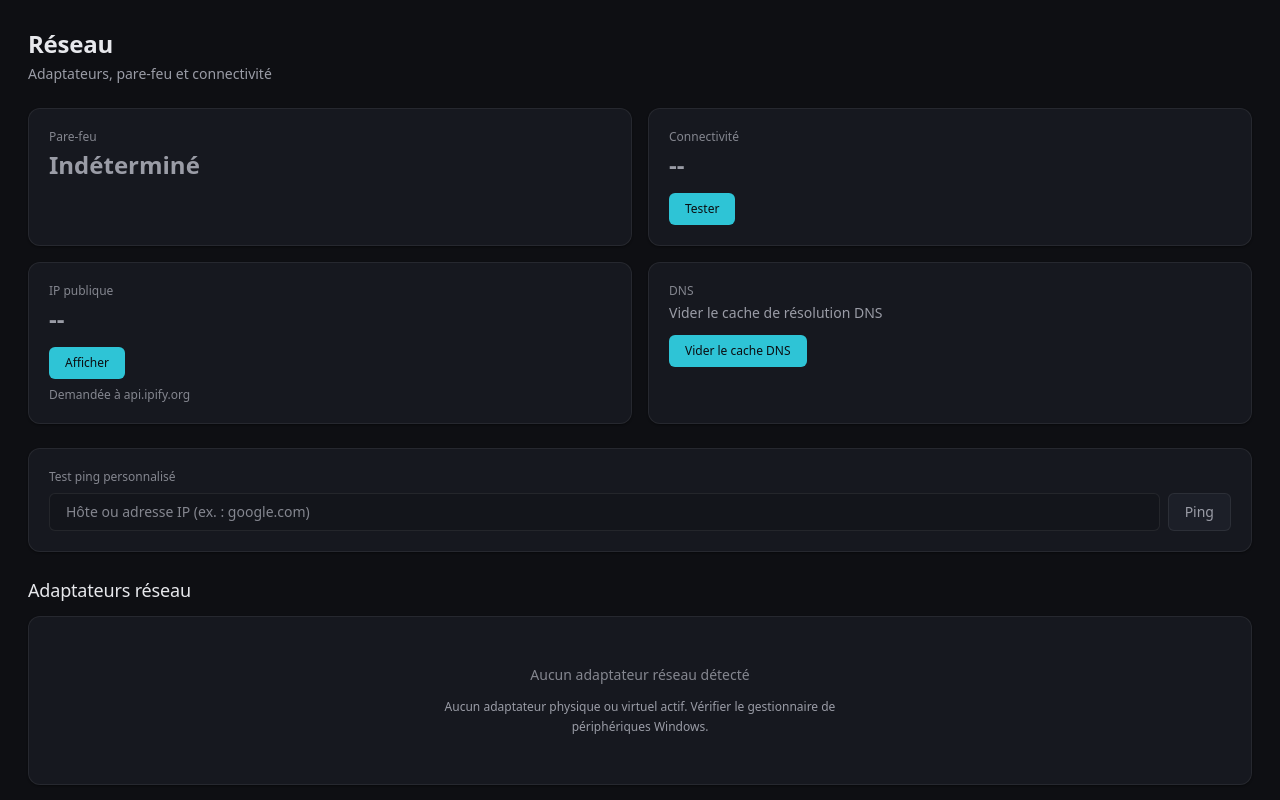
Test: NetworkPage IP publique › affiche l'adresse apres un clic sur Afficher
Click the button with aria-label "afficher l'ip publique" at (87, 363), box [49,347,125,379]
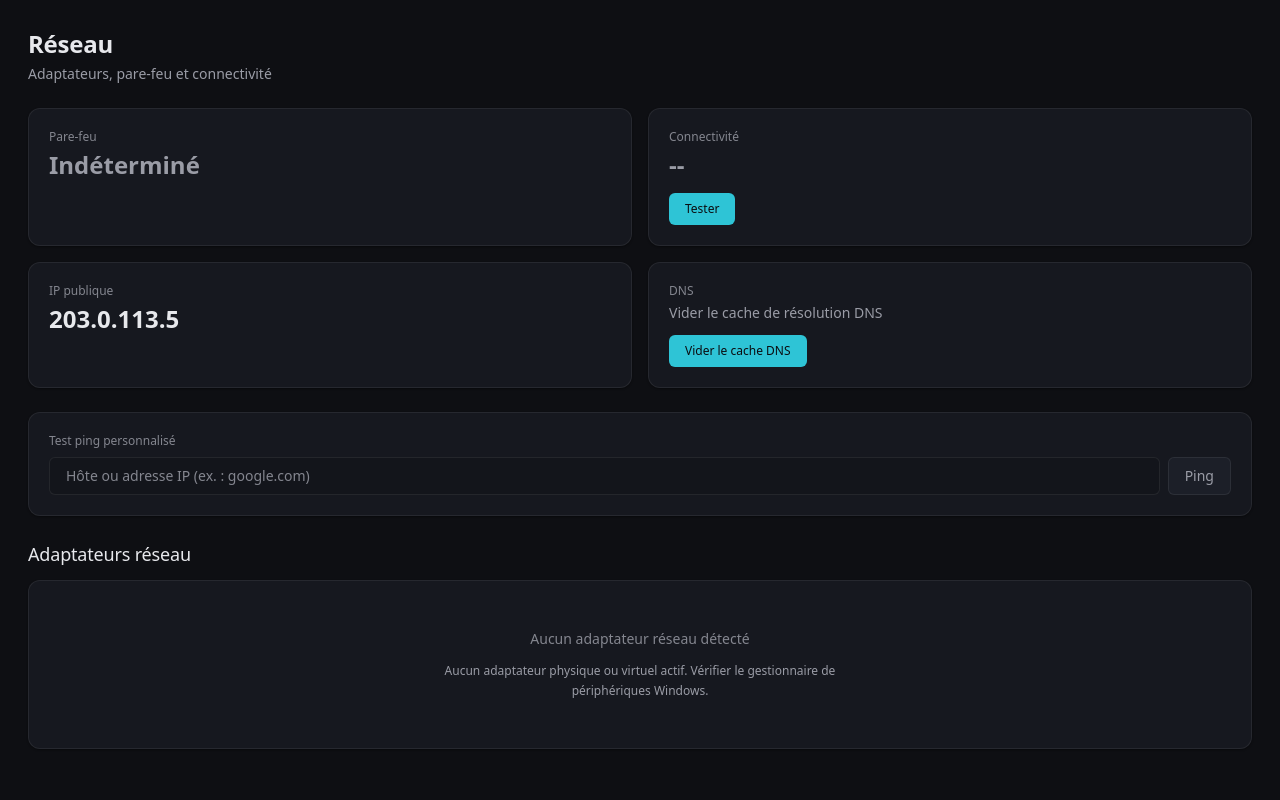
Now the text "203.0.113.5" is shown, box [49,302,179,335]
